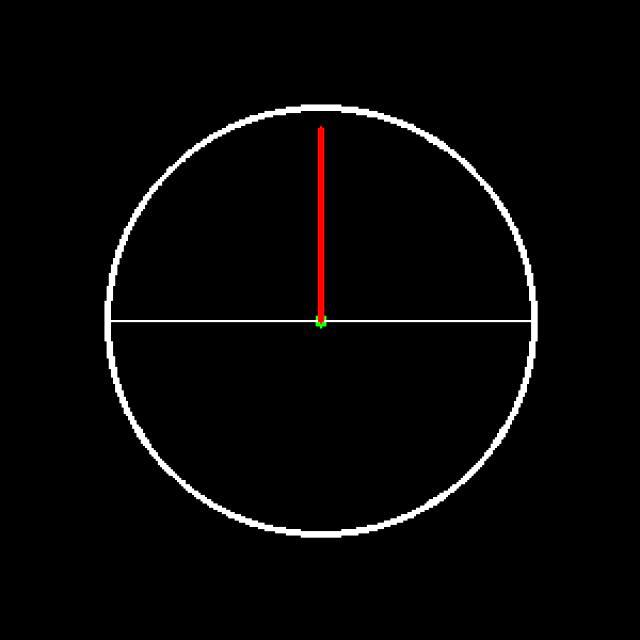Needle_Tip: (304, 108, 345, 154)
Needle_base: (285, 299, 358, 361)
